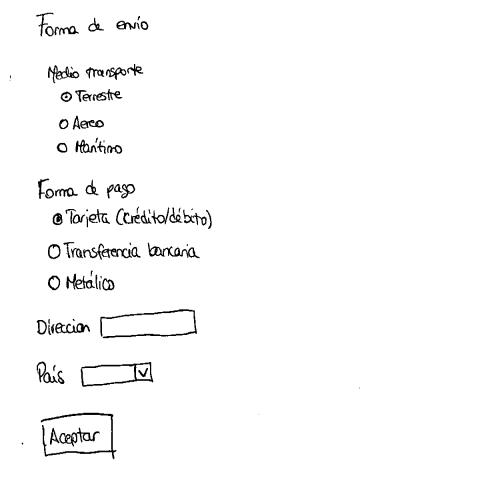Button: (41, 410, 118, 459)
Radio Button: (48, 239, 142, 264), (48, 271, 118, 294), (52, 206, 113, 232), (56, 136, 125, 158), (60, 87, 126, 106), (59, 114, 109, 131)
Select: (80, 361, 155, 389)
Textbox: (100, 307, 197, 340)
